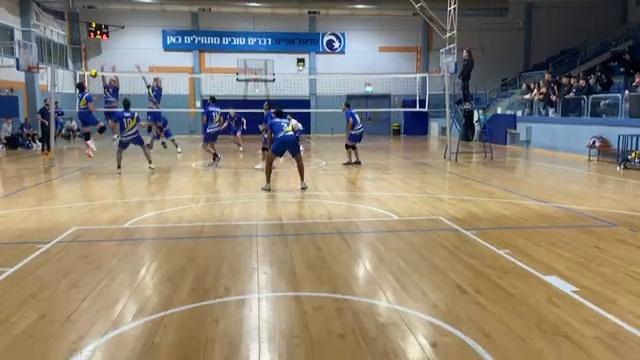ball: (89, 68, 99, 80)
